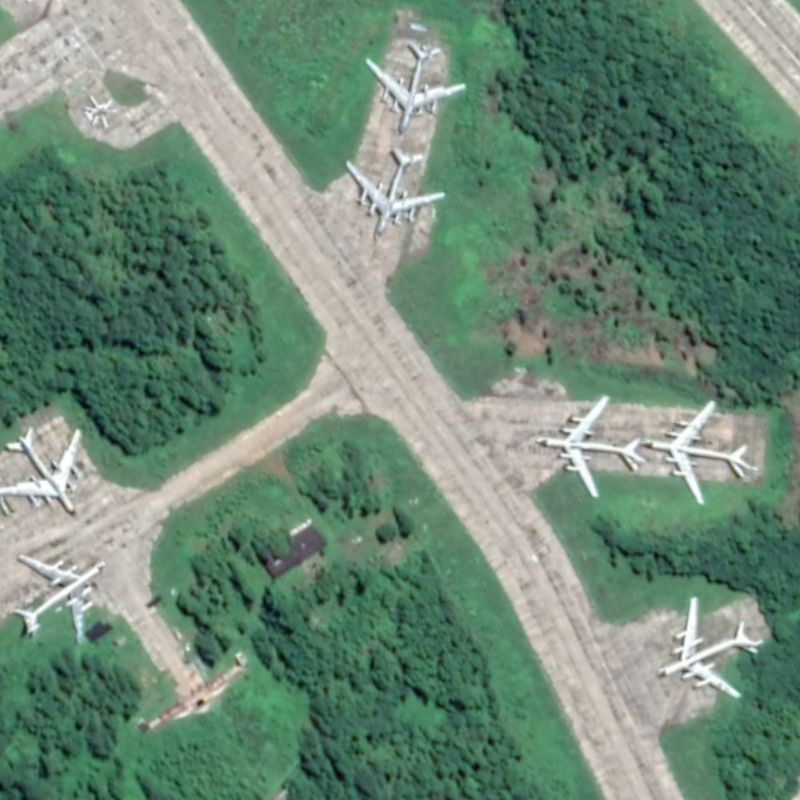A17: (642, 398, 761, 507), (656, 591, 767, 701), (535, 392, 647, 501), (339, 142, 447, 244), (360, 39, 468, 138), (12, 549, 110, 648), (1, 425, 94, 525)
